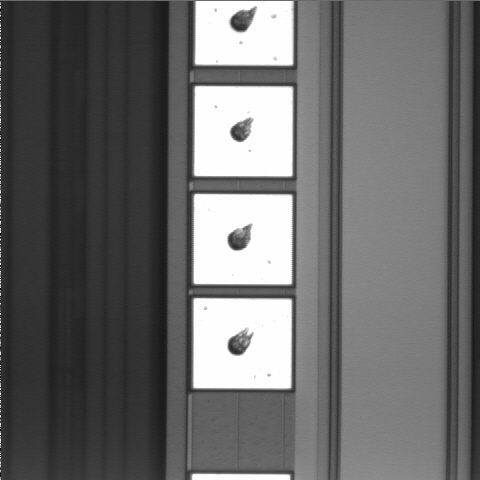pad: (193, 298, 292, 389), (194, 86, 293, 176), (194, 194, 292, 284)
